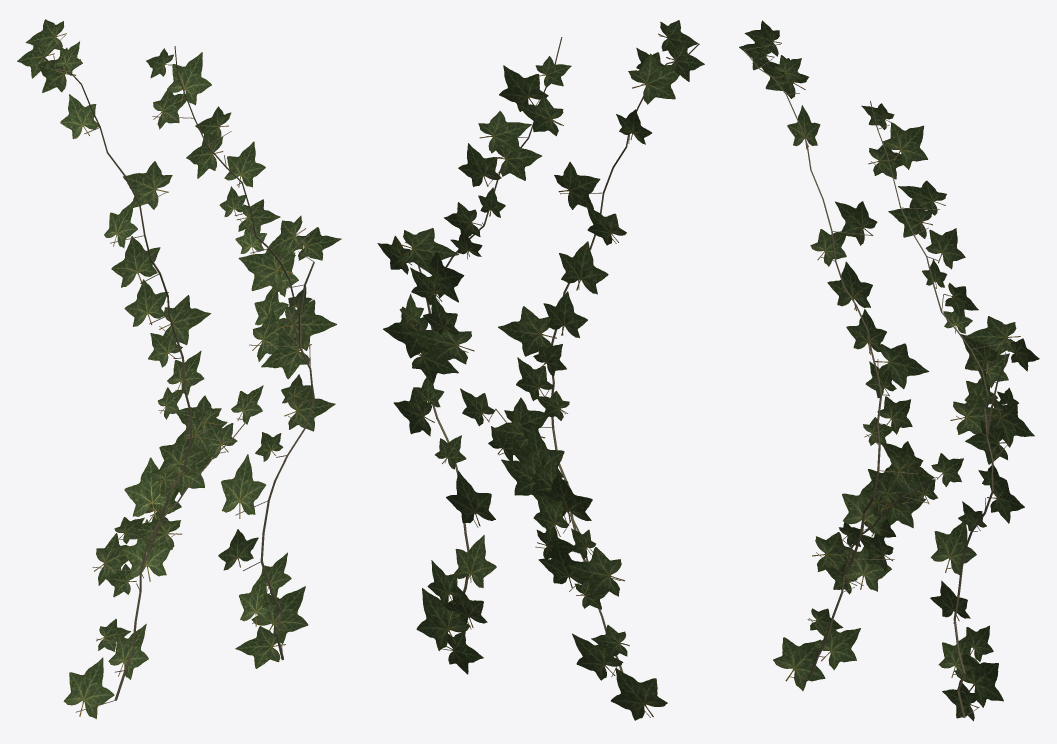
File: fence-ivy.glb
The picture shows the model from 3 angles, left to right: view 1: azimuth 30°, elevation 25°; view 2: azimuth 150°, elevation 25°; view 3: azimuth 330°, elevation 25°; orthographic projection. The views are drawn at different scales.
Parts seen in each view (by area): view 1: fence-ivy-trial; view 2: fence-ivy-trial; view 3: fence-ivy-trial.
Boxes of the visible parts, left/top/right/bottom form: fence-ivy-trial: left=17, top=19, right=341, bottom=719; fence-ivy-trial: left=377, top=20, right=704, bottom=720; fence-ivy-trial: left=739, top=20, right=1039, bottom=721.
Bounding box in the file's own units: 0.7528 × 1.57 × 0.0857.
2 materials, 1 textured.
